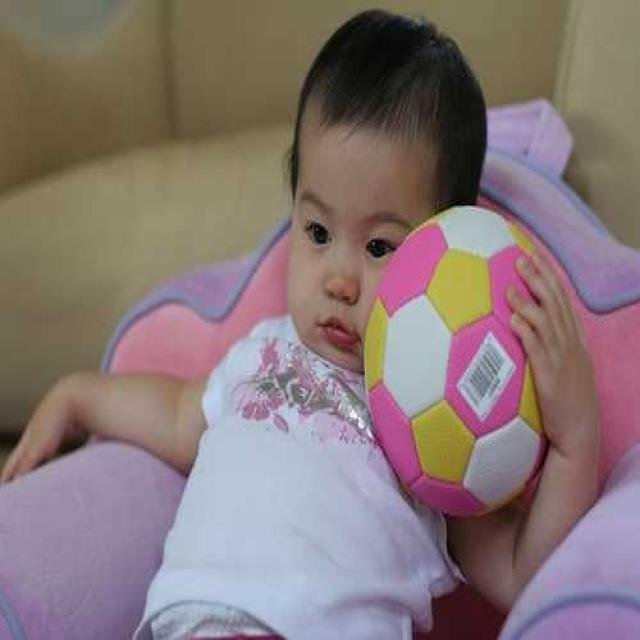ball: (364, 207, 566, 515)
